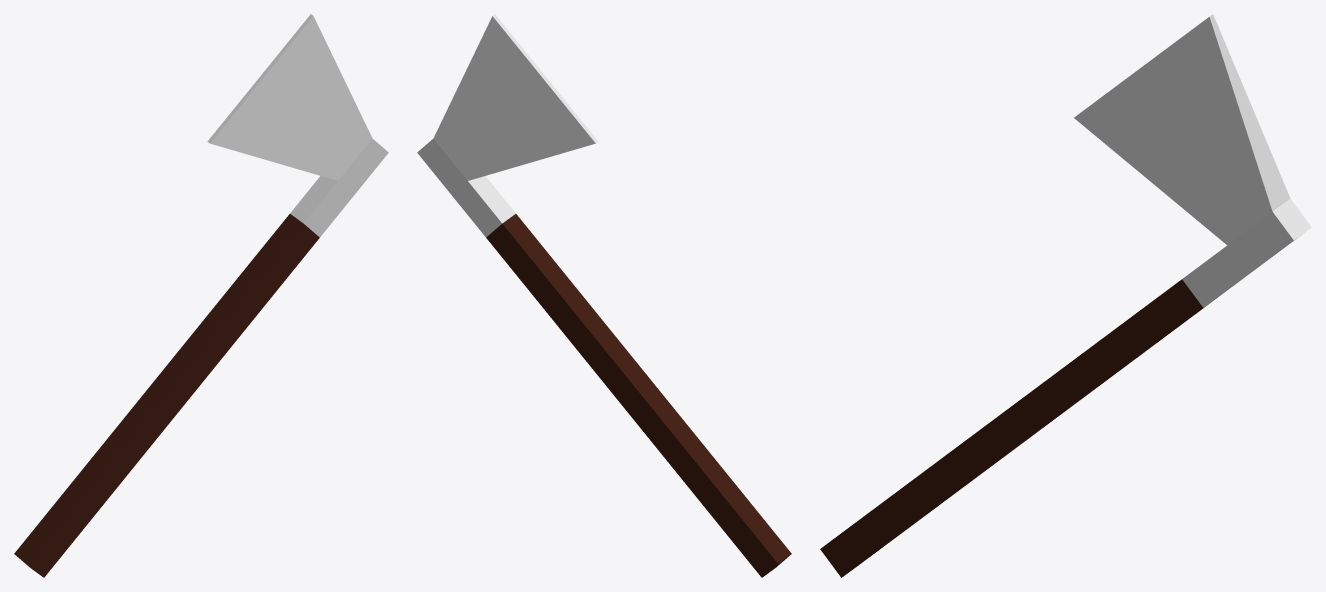
File: AxeModel.glb
3 views of the same model, side by side, from view 1: azimuth 30°, elevation 25°; view 2: azimuth 150°, elevation 25°; view 3: azimuth 330°, elevation 25° (orthographic). The views are drawn at different scales.
Parts seen in each view (by area): view 1: Axe; view 2: Axe; view 3: Axe.
Part boxes in pixels (x1=…): Axe: x1=14, y1=14, x2=388, y2=577; Axe: x1=417, y1=14, x2=791, y2=577; Axe: x1=820, y1=14, x2=1311, y2=577.
Size of the model in its own units: 0.7609 by 0.9883 by 0.05.
